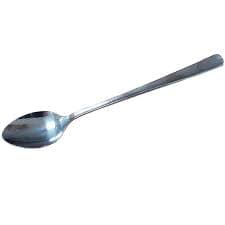spoon: (1, 51, 225, 153)
